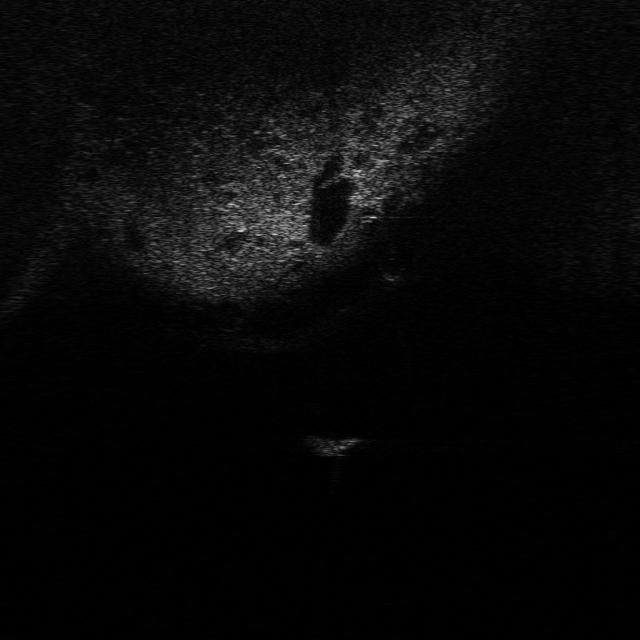ball: (374, 246, 410, 283)
cube: (302, 432, 363, 459)
